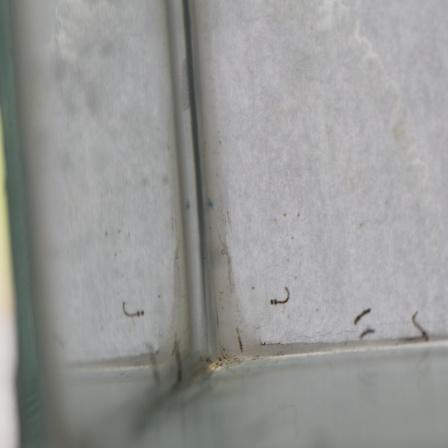Jentik-Nyamuk: (267, 285, 293, 307)
